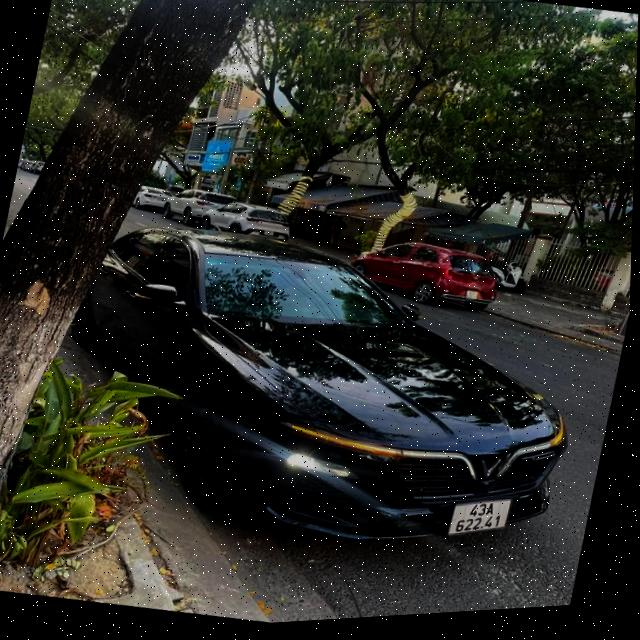car: (42, 171, 606, 602), (336, 210, 522, 331)
plate: (442, 484, 518, 548)
